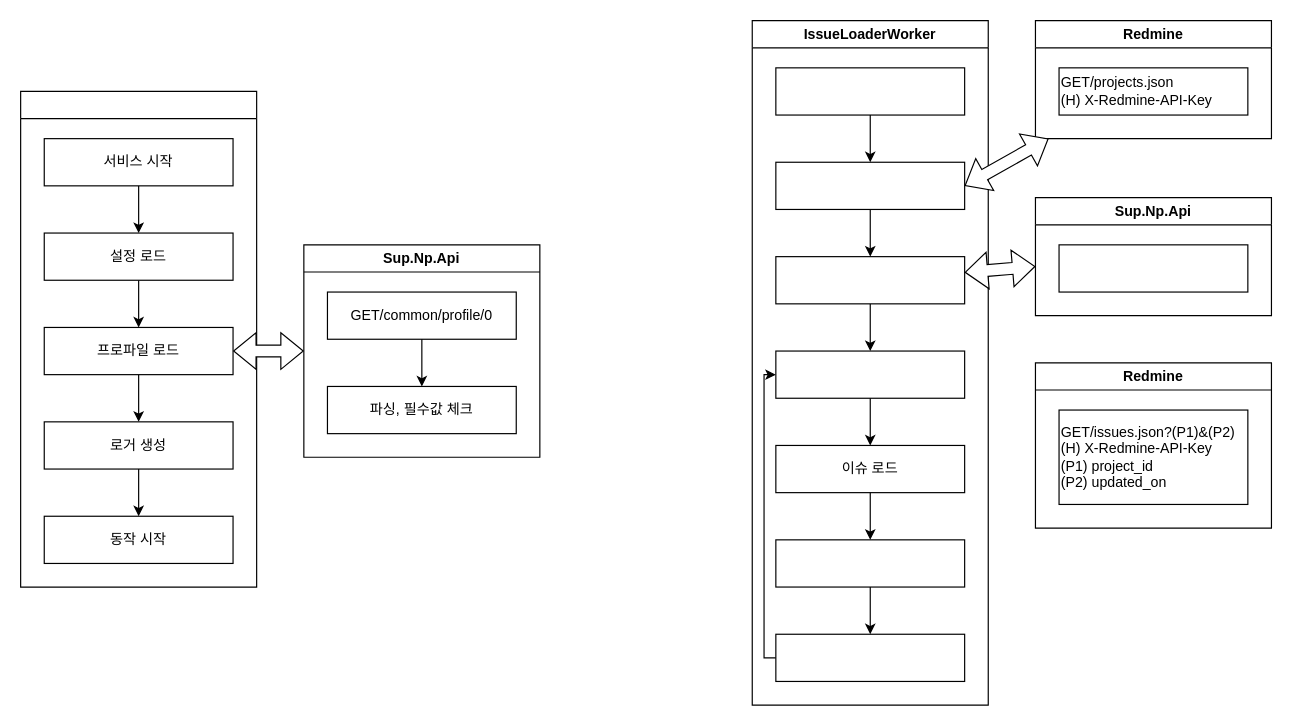
The diagram is 1292 pixels wide and 726 high, and some of its shapes have lost their labels. The shapes that lost their labels are listed below. From the top down, each one's centre as x and y in pixels, then its label:
point (870, 91): 워커 시작
point (870, 185): 프로젝트 로드
point (870, 279): 프로젝트 정보 저장
point (1153, 268): PUT/project/{PROJECT_ID}
point (138, 338): Program
point (870, 374): 루프 시작
point (870, 563): 이슈 정보 저장
point (870, 657): 대기
